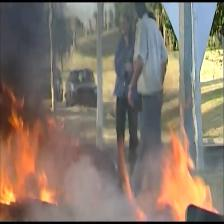fire: (0, 76, 85, 213), (107, 121, 222, 222)
